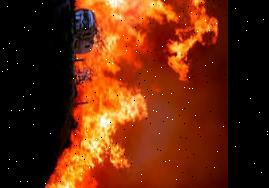fire: (74, 0, 222, 91), (40, 93, 148, 188)
